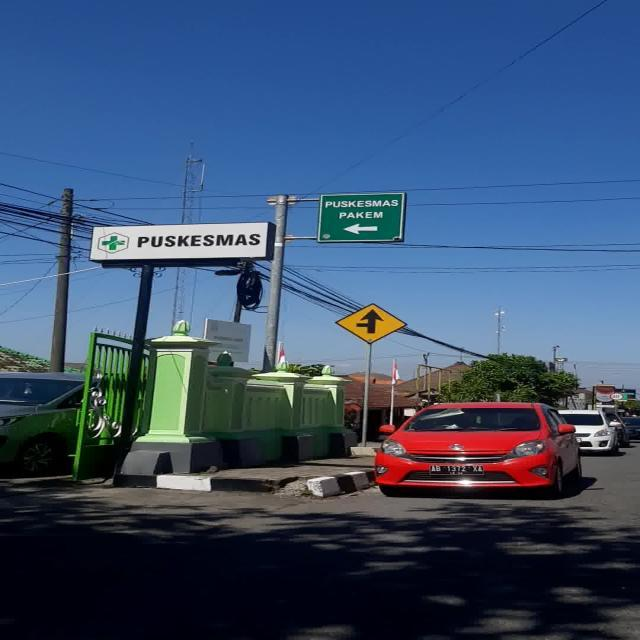Persimpangan 3 Prioritas Kiri: (334, 303, 408, 344)
